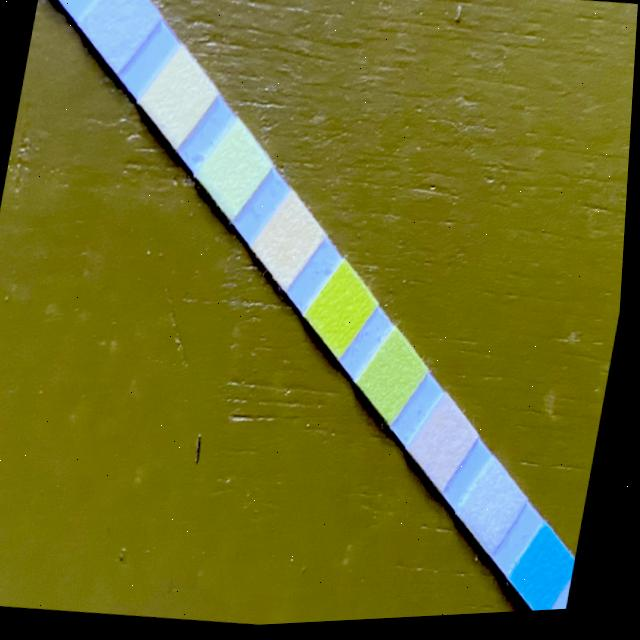Bilirubin: (474, 481, 517, 538)
Blood: (323, 287, 366, 342)
Glucose: (528, 549, 571, 605)
Ketone: (426, 418, 469, 474)
Nitrite: (94, 0, 143, 53)
Protein: (212, 144, 255, 199)
SpGravity: (374, 354, 417, 409)
Urobilinogen: (154, 68, 203, 132)
pH: (269, 216, 311, 272)
